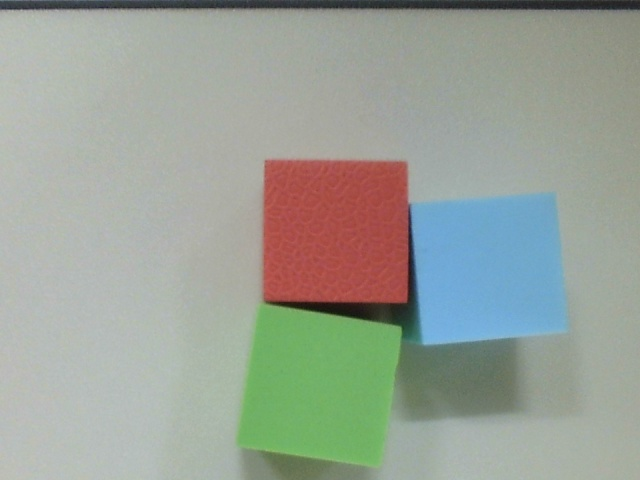greencube: (226, 302, 412, 470)
